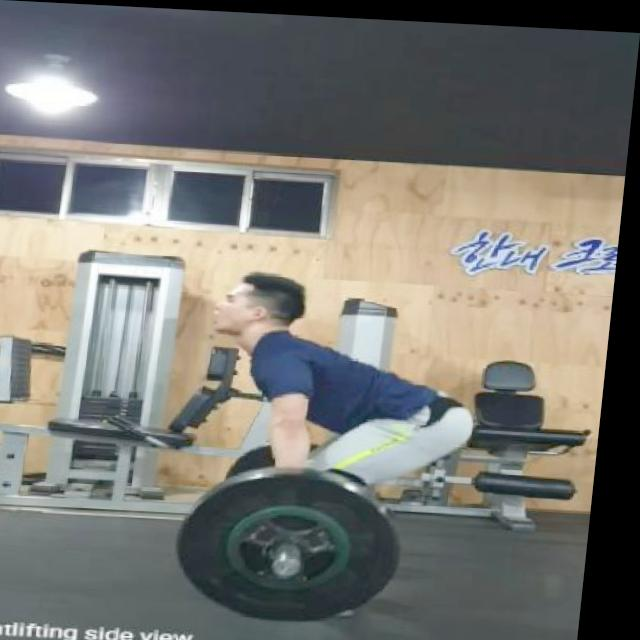barbell: (178, 461, 425, 627)
